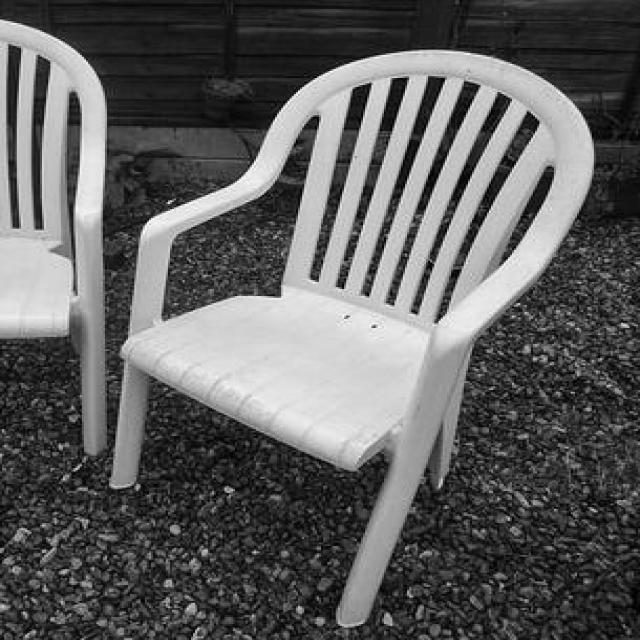chair: (108, 49, 598, 625)
